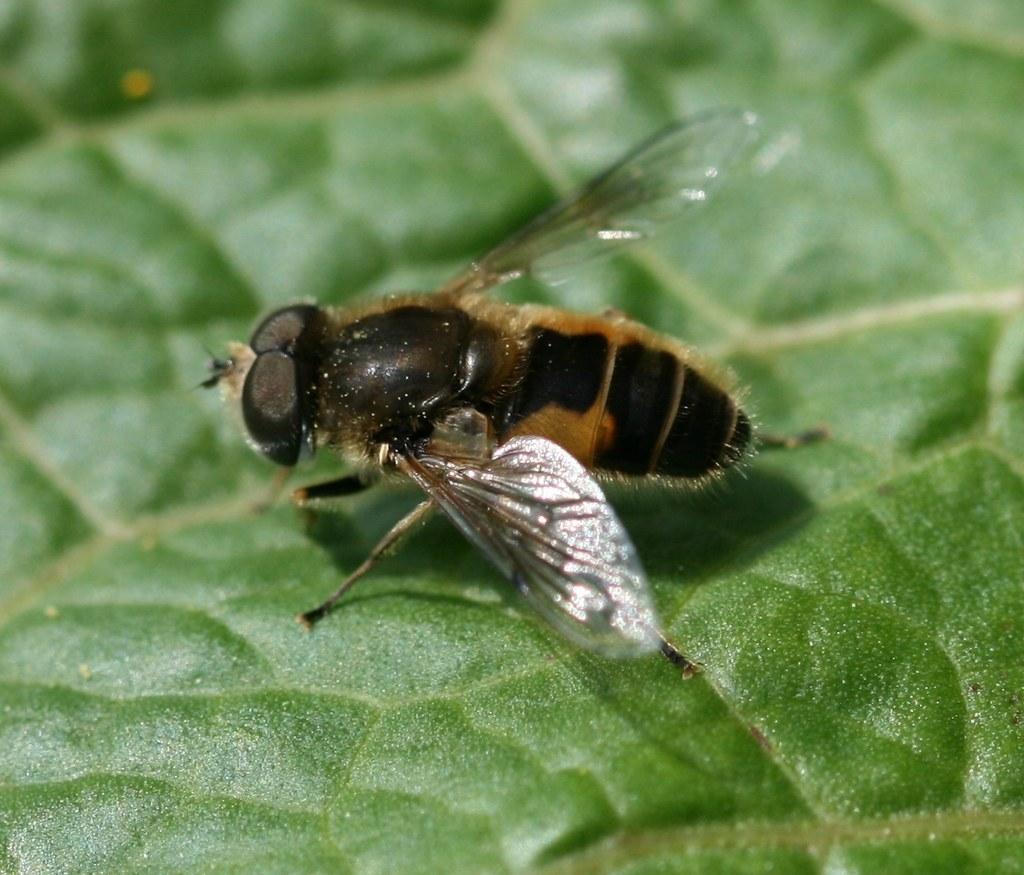bee: (200, 101, 767, 674)
